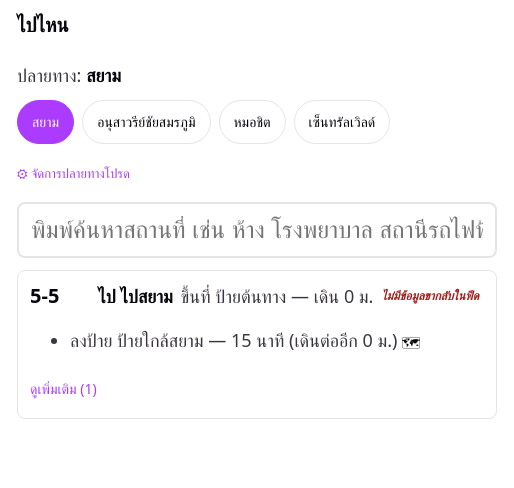
it: DestinationScreen board-now cards › reveals the rest of the options when expanded, and can collapse again
The image size is (514, 488).
What coordinates should you click on to do the following:
click the button "ดูเพิ่มเติม (1)"
I would click on:
 (63, 389)
Its box is [30,372,97,406].
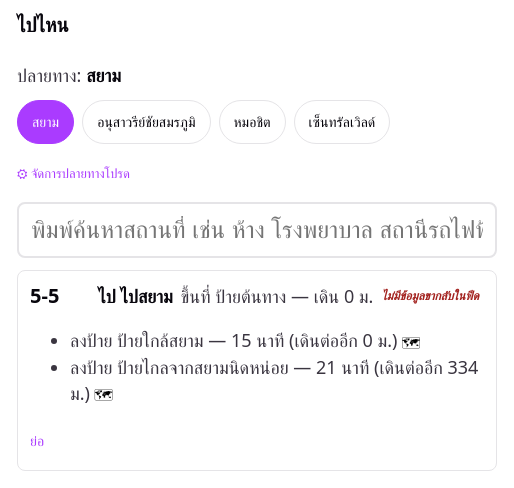
Result: the list item "ป้ายไกลจากสยามนิดหน่อย" is shown at [117,355,289,379]
Result: the button "ย่อ" is shown
What coordinates should you click on to do the following:
click the button "ย่อ"
I would click on:
 (37, 441)
Its box is [30,424,44,458].
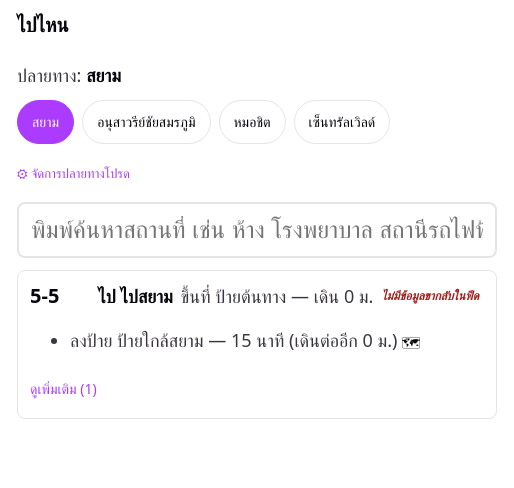
Result: the list item "ป้ายไกลจากสยามนิดหน่อย" is gone
Result: the button "ดูเพิ่มเติม (1)" is shown at [30,372,97,406]
